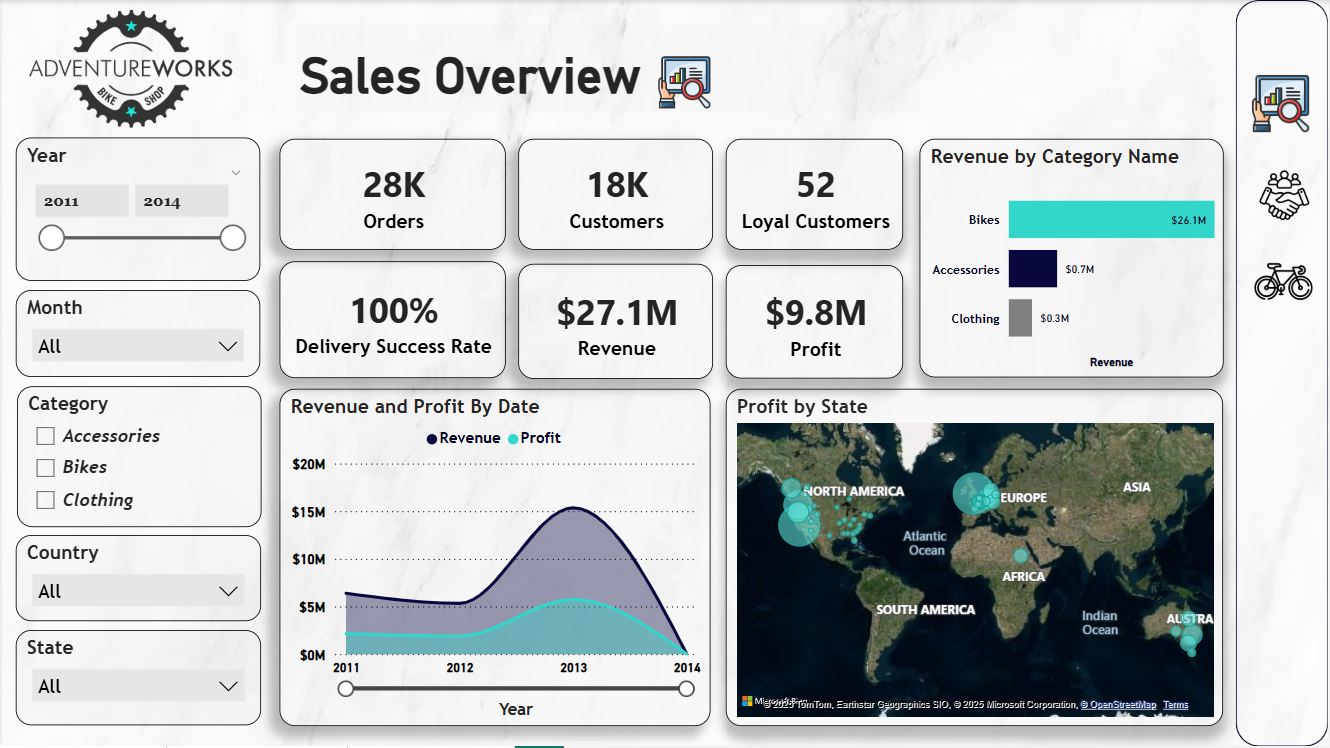

Layout of this report page (visuals, bound fields, positions):
{"tool":"powerbi","page":{"name":"Sales Analysis Overview","canvas":[1280,720],"ordinal":0},"visuals":[{"type":"image","box":[0,0,249.5,133.3],"z":0,"group":"g1"},{"type":"shape","box":[1191.1,0,89.2,720.4],"z":0},{"type":"clusteredBarChart","fields":{"Category":["DimProductCategory.EnglishProductCategoryName"],"Y":["_Measures.Revenue"]},"box":[885.1,134.5,293.7,230.5],"z":1000},{"type":"lineChart","title":"Revenue and Profit By Date ","fields":{"Y":["_Measures.Revenue","_Measures.Profit"],"Category":["DimDate.Date Hierarchy.Year","DimDate.Date Hierarchy.Quarter","DimDate.Date Hierarchy.MonthName","DimDate.Date Hierarchy.WeekDayName"]},"box":[267.6,374.6,415.8,325.2],"z":2000},{"type":"slicer","title":"Year","fields":{"Values":["DimDate.Date Hierarchy.Year"]},"box":[13.7,133.1,236,138.6],"z":3000,"group":"g1"},{"type":"map","title":"Profit by State","fields":{"Category":["DimGeography.StateProvinceName"],"Size":["Sum(FactInternetSales.Profit)"]},"box":[698.5,374.6,480.3,325.2],"z":3000},{"type":"card","title":"Achieving","fields":{"Values":["_Measures.NO.Late_Orders"]},"box":[267.6,252.6,218.2,112.5],"z":4000},{"type":"slicer","title":"Category","fields":{"Values":["DimProductCategory.Category Name"]},"box":[14.9,372.2,235.7,135.8],"z":4000,"group":"g1"},{"type":"textbox","box":[282.7,24.7,602.4,85.1],"z":5000},{"type":"slicer","title":"Country","fields":{"Values":["DimSalesTerritory.SalesTerritoryCountry"]},"box":[12.9,516.3,236.6,83.2],"z":5000,"group":"g1"},{"type":"group","id":"g1","title":"Group 2","box":[0,0,251.1,699.8],"z":6000},{"type":"slicer","title":"Month","fields":{"Values":["DimDate.Date Hierarchy.MonthName"]},"box":[13.7,280.1,236,83.7],"z":6000,"group":"g1"},{"type":"card","title":"Delivered","fields":{"Values":["_Measures.No.Orders"]},"box":[267.6,134.5,218.2,107],"z":7000},{"type":"slicer","title":"State","fields":{"Values":["DimGeography.StateProvinceName"]},"box":[12.9,607.9,236.6,91.8],"z":7000,"group":"g1"},{"type":"card","title":"To","fields":{"Values":["_Measures.No.Customer"]},"box":[498.1,134.5,188,107],"z":8000},{"type":"card","title":"Having","fields":{"Values":["_Measures.No.Loyal_Customers"]},"box":[698.5,134.5,171.5,107],"z":9000},{"type":"card","fields":{"Values":["_Measures.Revenue"]},"box":[498.1,254,188,111.1],"z":10000},{"type":"card","fields":{"Values":["_Measures.Profit"]},"box":[698.5,255.4,171.5,109.8],"z":11000},{"type":"image","box":[1202.1,67.2,65,65],"z":12000},{"type":"image","box":[1208.9,157.8,57.6,60.4],"z":13000},{"type":"image","box":[1203.4,238.8,65.9,65.9],"z":14000},{"type":"image","box":[628.5,49.4,60,60.4],"z":15000}]}

Visuals, with their boxes in screenshot pixels (x1, y1, x2, y2), scaled from the page's 1280x720 canvas onto the 1330x748 screenshot:
image: (0, 0, 259, 138)
shape: (1238, 0, 1329, 747)
clusteredBarChart - DimProductCategory.EnglishProductCategoryName x _Measures.Revenue: (920, 140, 1225, 379)
"Revenue and Profit By Date " lineChart: (278, 389, 710, 727)
"Year" slicer: (14, 138, 259, 282)
"Profit by State" map: (726, 389, 1225, 727)
"Achieving" card: (278, 262, 505, 379)
"Category" slicer: (15, 387, 260, 528)
textbox: (294, 26, 920, 114)
"Country" slicer: (13, 536, 259, 623)
"Group 2" group: (0, 0, 261, 727)
"Month" slicer: (14, 291, 259, 378)
"Delivered" card: (278, 140, 505, 251)
"State" slicer: (13, 632, 259, 727)
"To" card: (518, 140, 713, 251)
"Having" card: (726, 140, 904, 251)
card - _Measures.Revenue: (518, 264, 713, 379)
card - _Measures.Profit: (726, 265, 904, 379)
image: (1249, 70, 1317, 137)
image: (1256, 164, 1316, 227)
image: (1250, 248, 1319, 317)
image: (653, 51, 715, 114)
